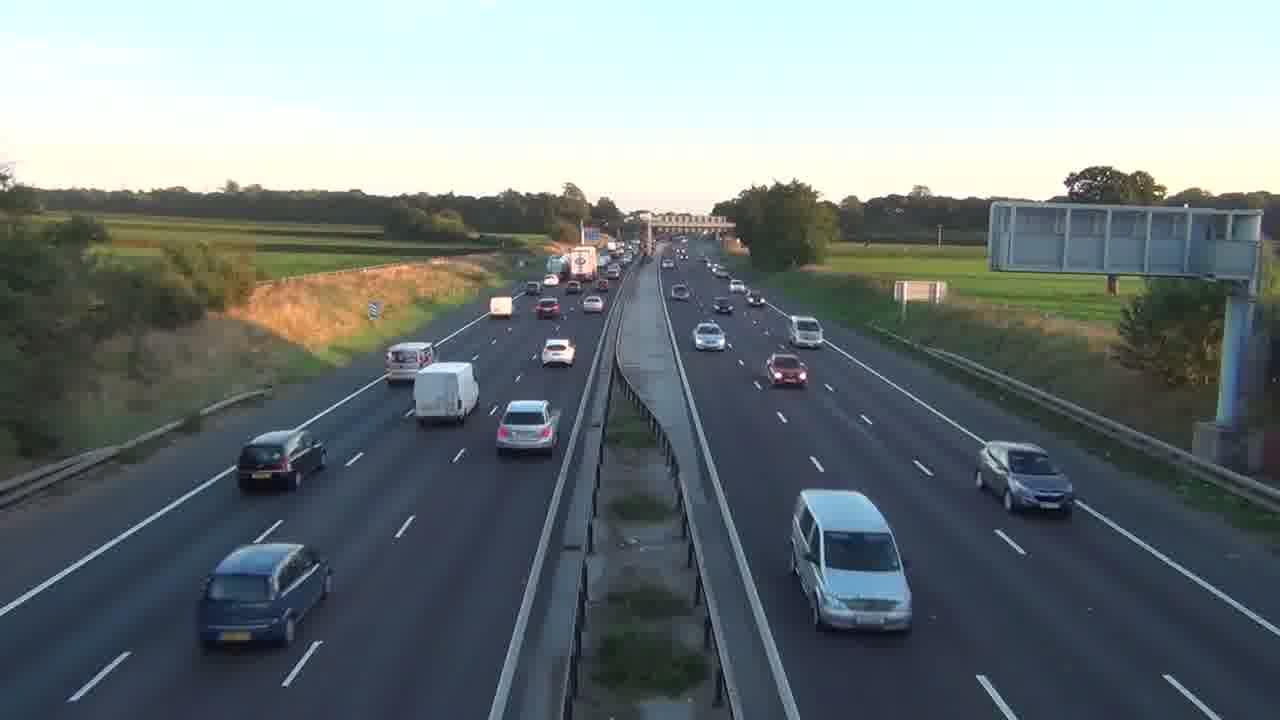car: (196, 540, 333, 648), (974, 439, 1075, 516), (237, 427, 326, 493), (766, 352, 809, 388), (693, 320, 728, 351), (534, 297, 562, 319)
truck: (413, 360, 480, 427), (384, 340, 435, 384), (788, 315, 824, 350)
